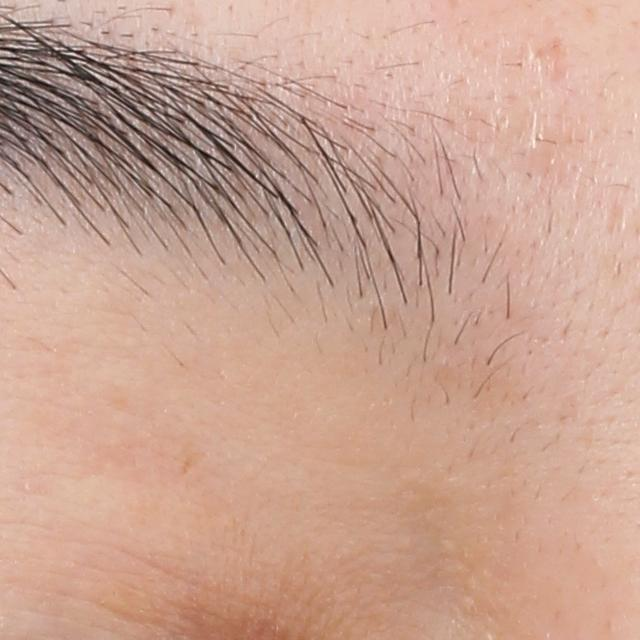atrophic_scar: (532, 35, 568, 81), (604, 202, 627, 234)
